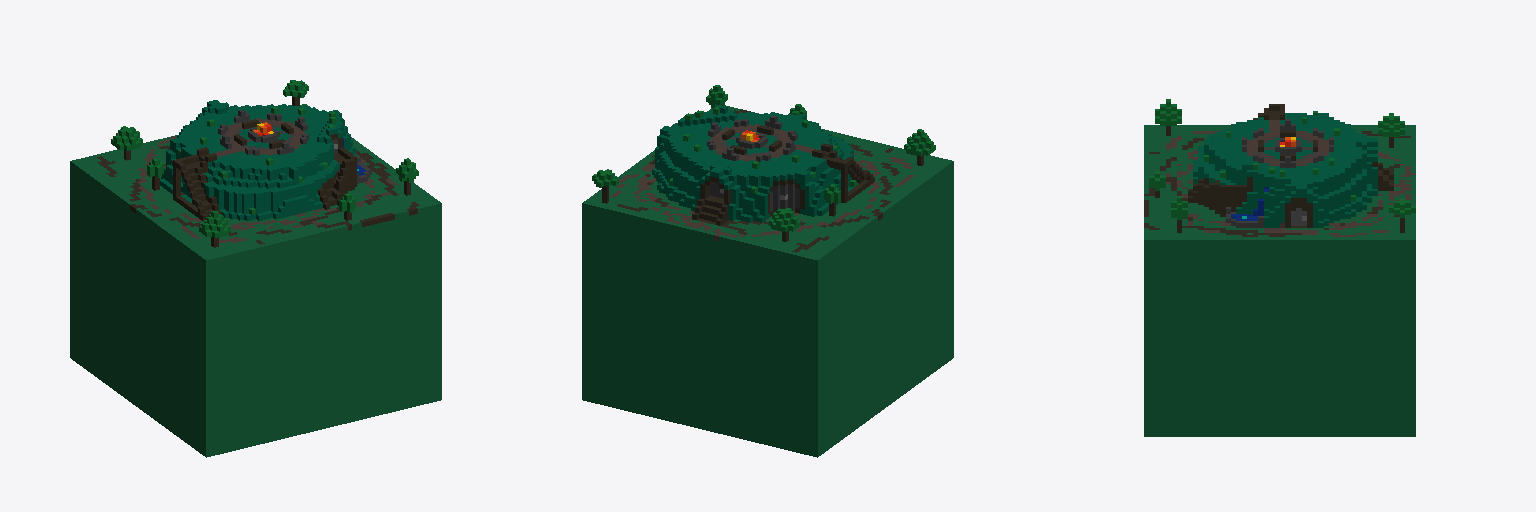
The picture shows the model from 3 angles: view 1: azimuth 30°, elevation 25°; view 2: azimuth 150°, elevation 25°; view 3: azimuth 270°, elevation 25°; orthographic projection.
Parts seen in each view (by area): view 1: object 1; view 2: object 1; view 3: object 1.
Part boxes in pixels (left/top/right/bottom): object 1: left=70, top=80, right=441, bottom=457; object 1: left=582, top=85, right=953, bottom=457; object 1: left=1144, top=99, right=1415, bottom=436.
Bounding box in the file's own units: 5 × 5 × 5.
Materials: 1 (1 with a texture image).